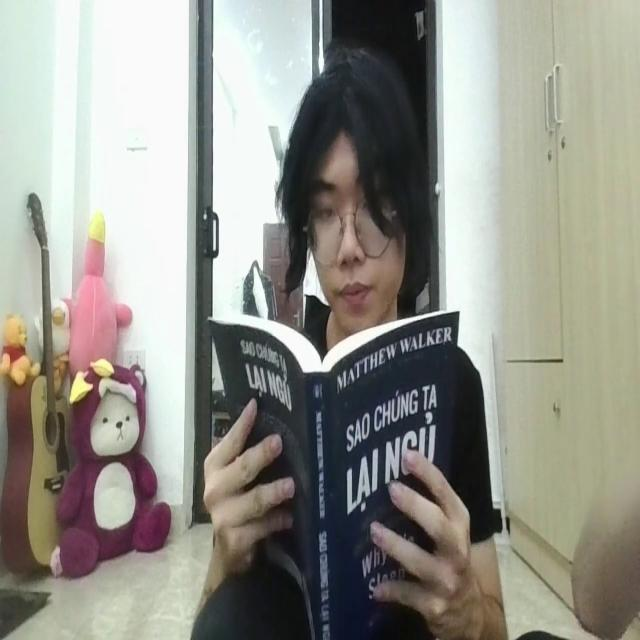book: (206, 308, 463, 640)
student: (190, 49, 510, 640)
